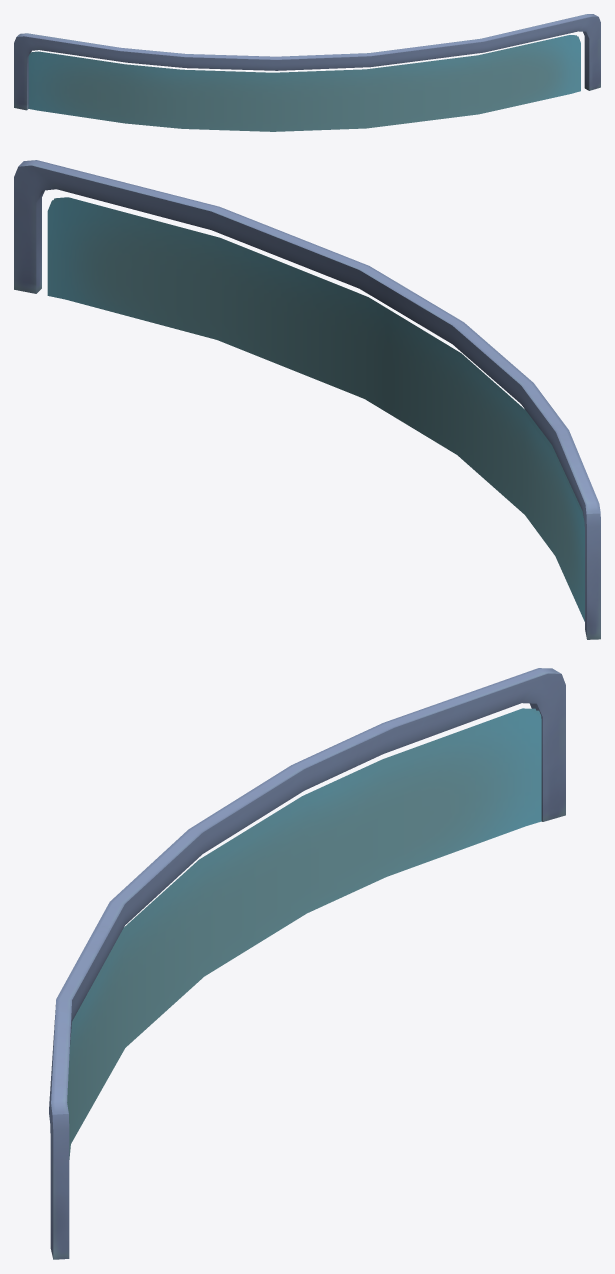
Rendered from mesh_1002_zc_item06.FBX.
3 views of the same model, one above another, from view 1: azimuth 30°, elevation 25°; view 2: azimuth 150°, elevation 25°; view 3: azimuth 270°, elevation 25° (orthographic). The views are drawn at different scales.
Visible parts, largest first — view 1: mesh_1002_zc_item06; view 2: mesh_1002_zc_item06; view 3: mesh_1002_zc_item06.
Part boxes in pixels (bbox=[...]): mesh_1002_zc_item06: bbox=[14, 14, 600, 131]; mesh_1002_zc_item06: bbox=[14, 160, 600, 639]; mesh_1002_zc_item06: bbox=[49, 668, 565, 1259].
Bounding box in the file's own units: 716 × 109 × 348.
Materials: 1 (1 with a texture image).
